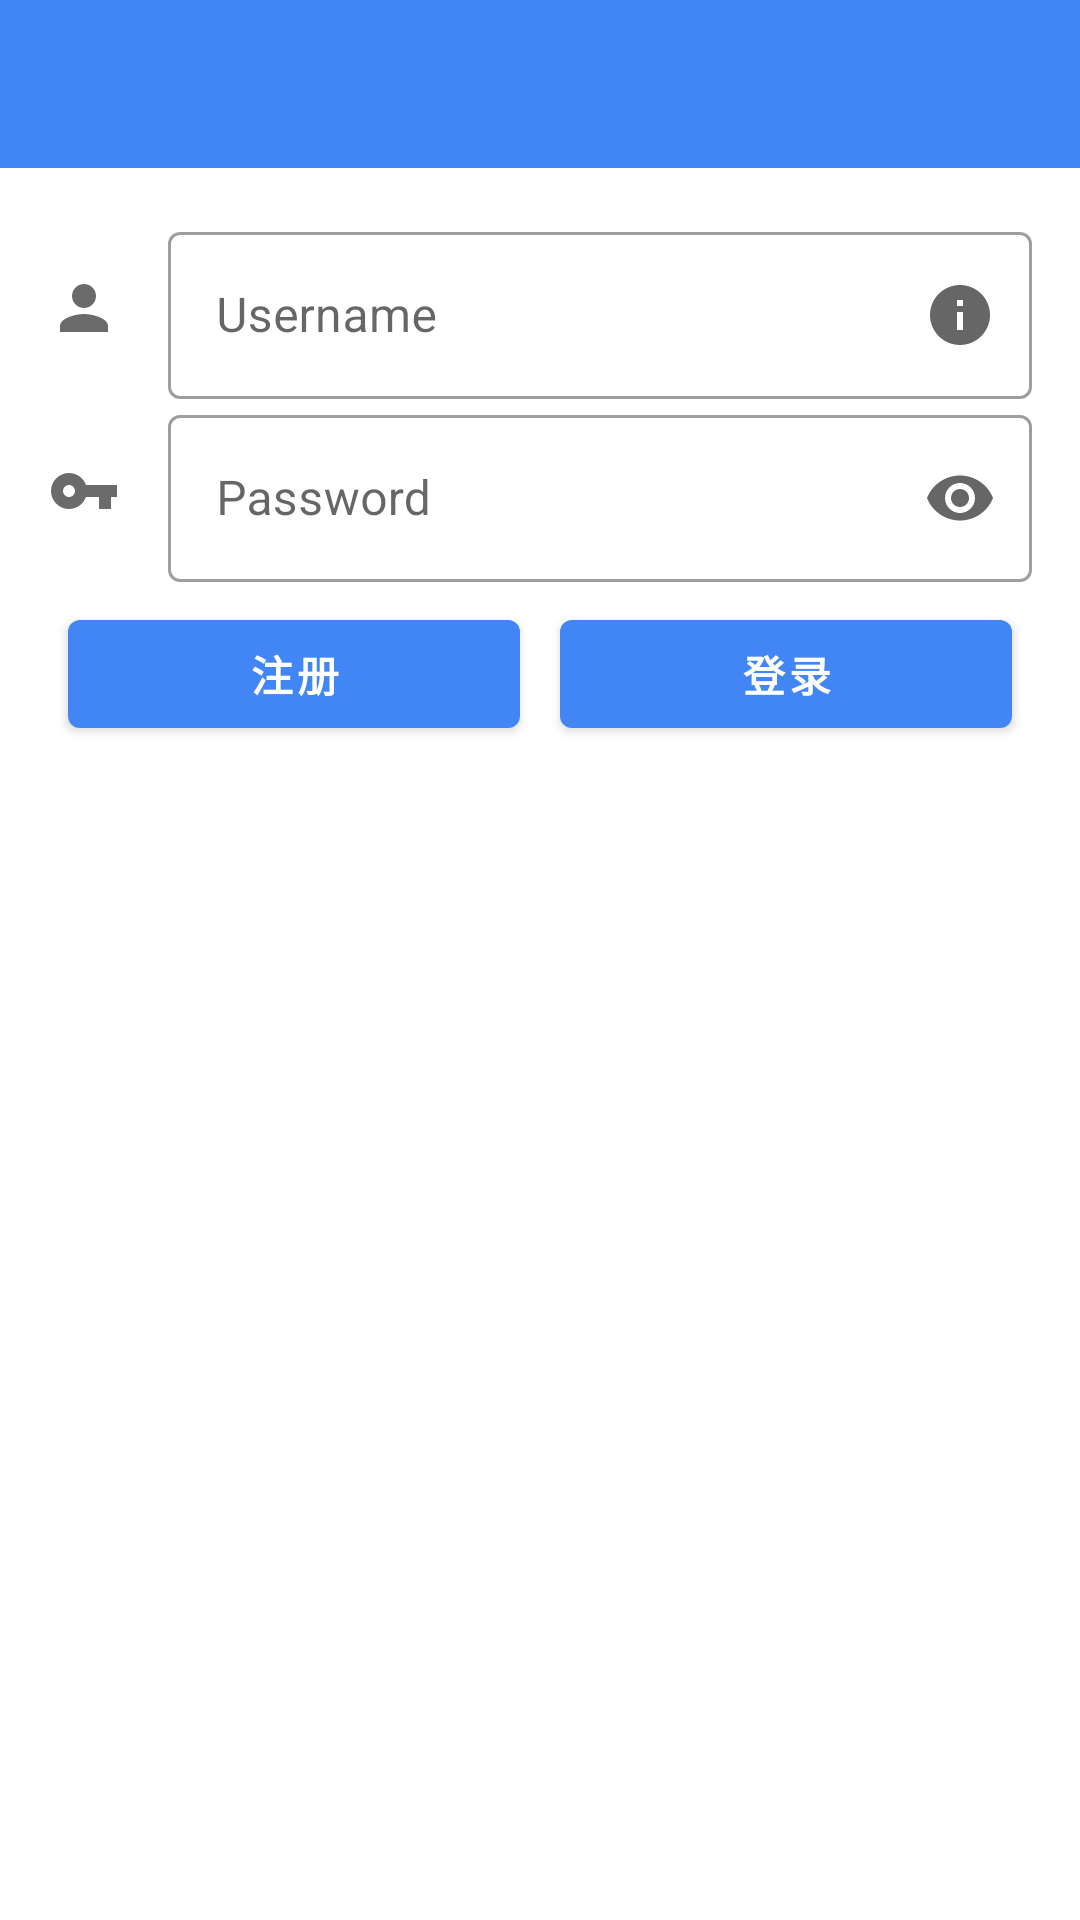

Icons on this 1080px×1920px Android screen, each with the point to tap as (x=x, y=y):
person: (x=84, y=308)
vpn key: (x=84, y=491)
